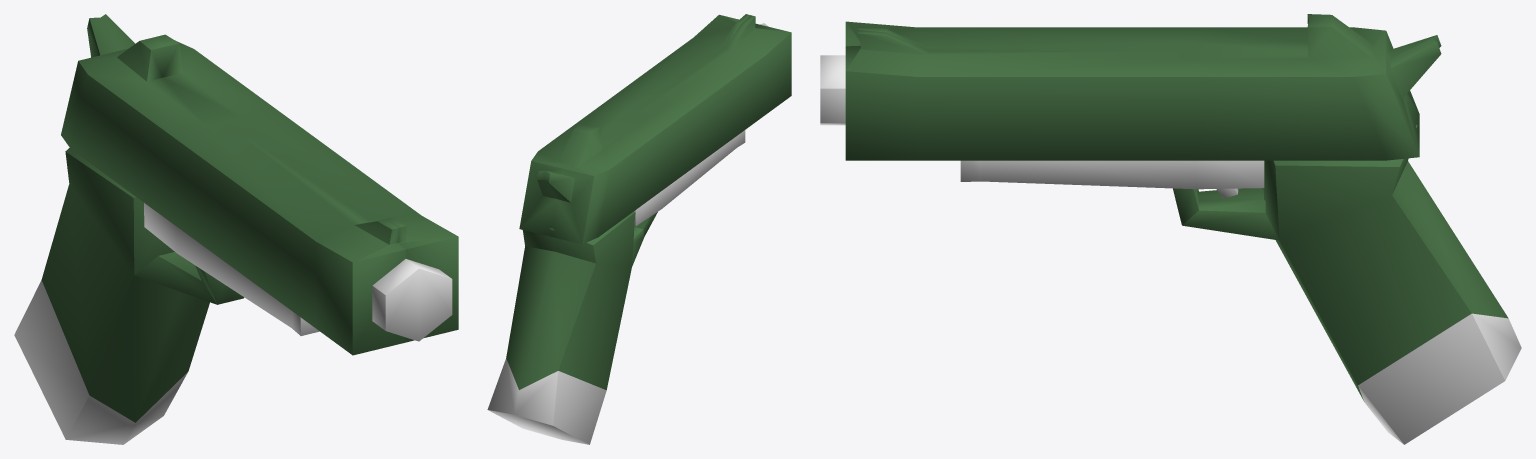
Rendered from Pistol.fbx.
3 views of the same model, side by side, from view 1: azimuth 30°, elevation 25°; view 2: azimuth 150°, elevation 25°; view 3: azimuth 270°, elevation 25° (orthographic). The views are drawn at different scales.
Visible parts, largest first — view 1: Pistol; view 2: Pistol; view 3: Pistol.
Part boxes in pixels (x1,y1,x2,y2): Pistol: [14, 14, 458, 444]; Pistol: [487, 14, 791, 444]; Pistol: [820, 14, 1521, 444].
Size of the model in its own units: 31.33 by 121 by 187.
